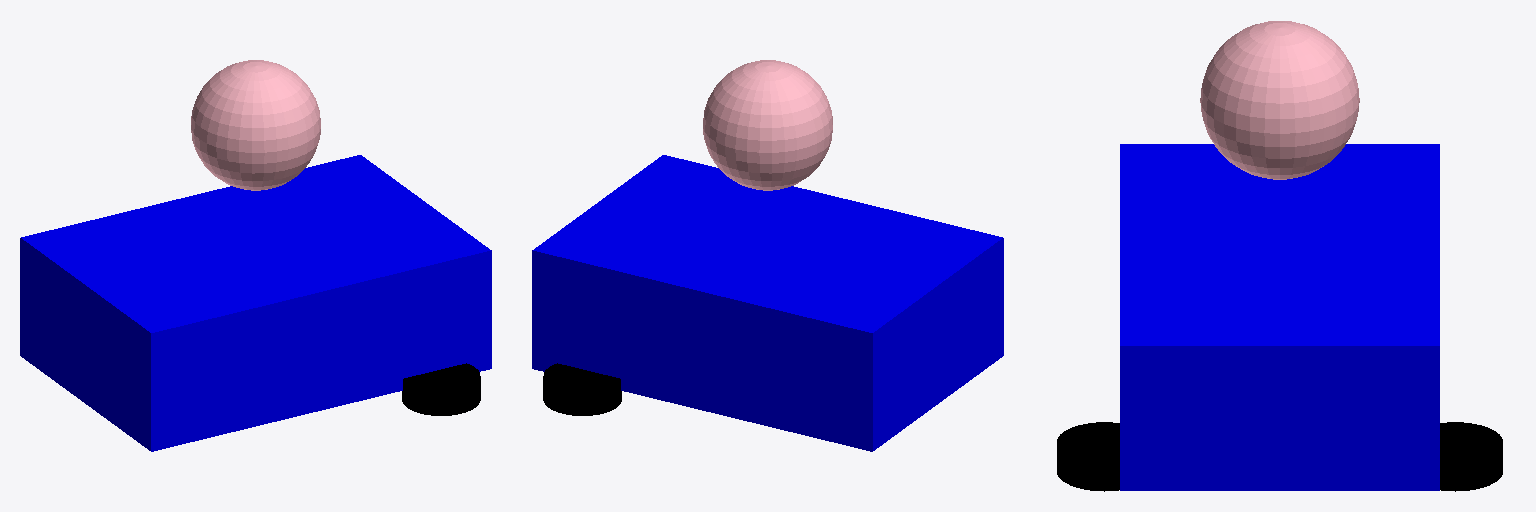
robot.urdf — cute_bot:
<?xml version="1.0"?>
<robot name="cute_bot">
  <!-- Materials -->
  <material name="blue">
    <color rgba="0 0 1 1"/>
  </material>
  <material name="pink">
    <color rgba="1 0.75 0.8 1"/>
  </material>
  <material name="black">
    <color rgba="0 0 0 1"/>
  </material>

  <!-- Base link -->
  <link name="base_link">
    <visual>
      <geometry>
        <box size="0.3 0.2 0.1"/>
      </geometry>
      <material name="blue"/>
    </visual>
    <collision>
      <geometry>
        <box size="0.3 0.2 0.1"/>
      </geometry>
    </collision>
    <inertial>
      <mass value="1.0"/>
      <inertia ixx="0.01" ixy="0.0" ixz="0.0" iyy="0.01" iyz="0.0" izz="0.01"/>
    </inertial>
  </link>

  <!-- Head link -->
  <joint name="head_joint" type="fixed">
    <parent link="base_link"/>
    <child link="head_link"/>
    <origin xyz="0 0 0.15" rpy="0 0 0"/>
  </joint>
  <link name="head_link">
    <visual>
      <geometry>
        <sphere radius="0.05"/>
      </geometry>
      <material name="pink"/>
    </visual>
    <collision>
      <geometry>
        <sphere radius="0.05"/>
      </geometry>
    </collision>
    <inertial>
      <mass value="0.2"/>
      <inertia ixx="0.001" ixy="0.0" ixz="0.0" iyy="0.001" iyz="0.0" izz="0.001"/>
    </inertial>
  </link>

  <!-- Left wheel -->
  <joint name="wheel_left_joint" type="continuous">
    <parent link="base_link"/>
    <child link="wheel_left_link"/>
    <origin xyz="0.1 0.11 -0.05" rpy="0 0 0"/>
    <axis xyz="0 1 0"/>
  </joint>
  <link name="wheel_left_link">
    <visual>
      <geometry>
        <cylinder radius="0.03" length="0.02"/>
      </geometry>
      <material name="black"/>
    </visual>
    <collision>
      <geometry>
        <cylinder radius="0.03" length="0.02"/>
      </geometry>
    </collision>
    <inertial>
      <mass value="0.1"/>
      <inertia ixx="0.0001" ixy="0.0" ixz="0.0" iyy="0.0001" iyz="0.0" izz="0.0001"/>
    </inertial>
  </link>

  <!-- Right wheel -->
  <joint name="wheel_right_joint" type="continuous">
    <parent link="base_link"/>
    <child link="wheel_right_link"/>
    <origin xyz="0.1 -0.11 -0.05" rpy="0 0 0"/>
    <axis xyz="0 1 0"/>
  </joint>
  <link name="wheel_right_link">
    <visual>
      <geometry>
        <cylinder radius="0.03" length="0.02"/>
      </geometry>
      <material name="black"/>
    </visual>
    <collision>
      <geometry>
        <cylinder radius="0.03" length="0.02"/>
      </geometry>
    </collision>
    <inertial>
      <mass value="0.1"/>
      <inertia ixx="0.0001" ixy="0.0" ixz="0.0" iyy="0.0001" iyz="0.0" izz="0.0001"/>
    </inertial>
  </link>
</robot>

--- Facts derived from the render (not from the file) ---
The picture shows the robot from 3 angles, left to right: view 1: azimuth 30°, elevation 25°; view 2: azimuth 150°, elevation 25°; view 3: azimuth 270°, elevation 25°; orthographic projection.
Robot: cute_bot — 4 links, 3 joints (2 continuous, 1 fixed); root link base_link; default pose: every joint at zero.
Visible links, largest first — view 1: base_link, head_link, wheel_right_link; view 2: base_link, head_link, wheel_left_link; view 3: base_link, head_link, wheel_left_link, wheel_right_link.
Link boxes in pixels (box(x1,y1,x2,y2)): base_link: box(20, 155, 491, 451); head_link: box(191, 60, 320, 190); wheel_right_link: box(402, 363, 480, 415); base_link: box(532, 155, 1003, 451); head_link: box(703, 60, 832, 190); wheel_left_link: box(543, 363, 621, 415); base_link: box(1120, 144, 1439, 490); head_link: box(1200, 21, 1359, 179); wheel_left_link: box(1440, 422, 1502, 491); wheel_right_link: box(1057, 422, 1119, 491).
Size in the robot's own frame: 0.3 by 0.28 by 0.26 metres.
Geometry: primitives only (box / cylinder / sphere), no mesh files.